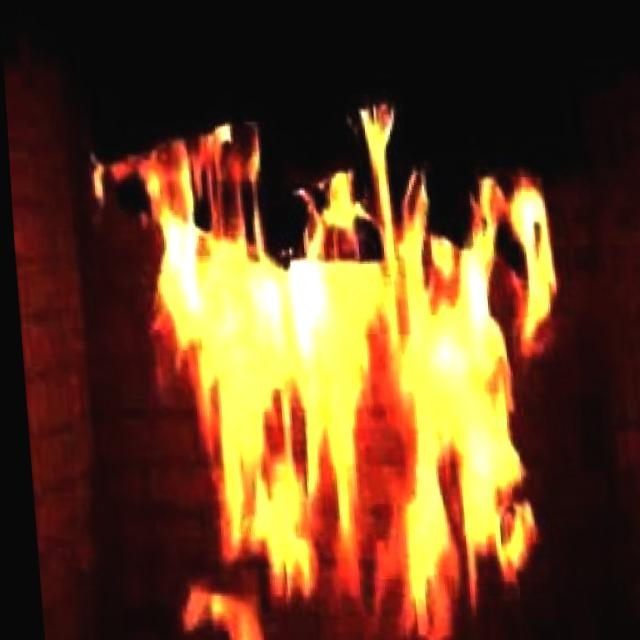Fire: (155, 182, 556, 619)
